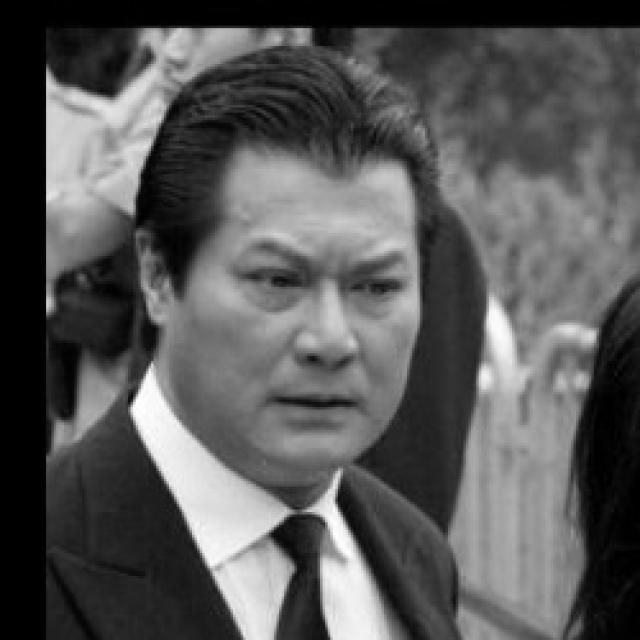real: (178, 147, 421, 472), (235, 247, 413, 312)
